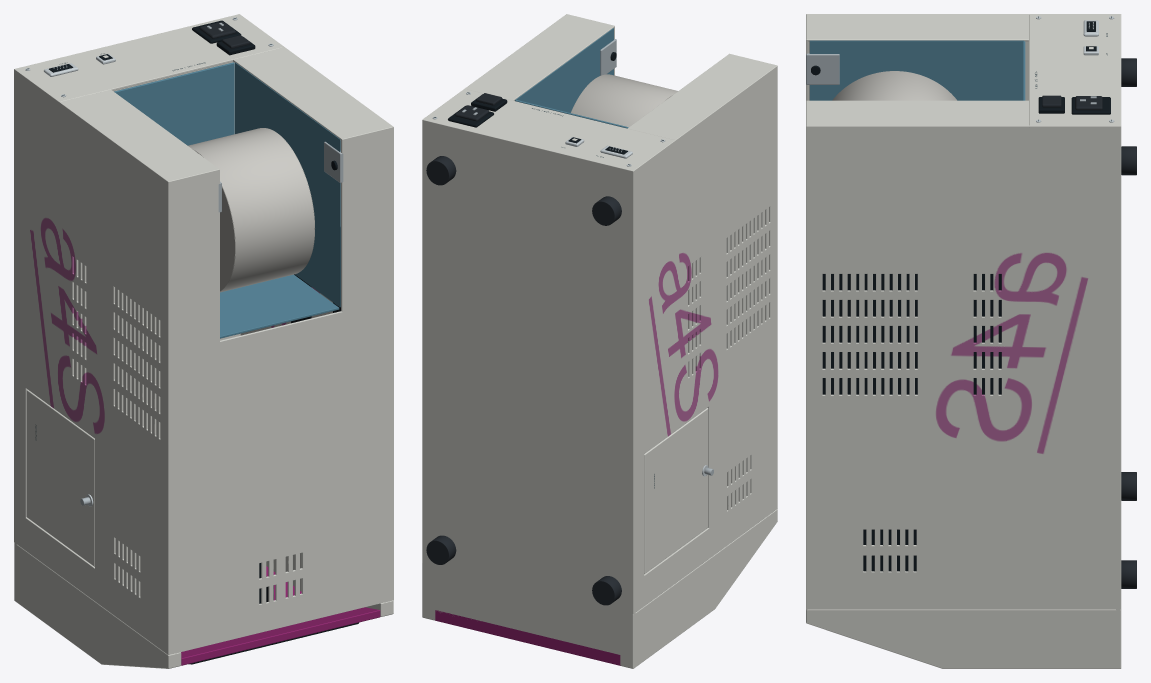
The model's file is azenta_a4s.glb.
3 renders of one model, left to right at view 1: azimuth 30°, elevation 25°; view 2: azimuth 150°, elevation 25°; view 3: azimuth 270°, elevation 25°, orthographic. The views are drawn at different scales.
Parts seen in each view (by area): view 1: Base pan | 222 x 500 mm, Left enclosure side | 263 mm high, Blue roll-bay floor, 78 mm sealing foil roll, Front side shoulder, Plum slanted control console, Carrier tunnel ceiling, Layered foil roll end face, Fixed carrier rail, Elastomer bench foot; view 2: Base pan | 222 x 500 mm, Left enclosure side | 263 mm high, Front side shoulder, 78 mm sealing foil roll, Elastomer bench foot, Blue roll-bay floor, Plum aperture header, Carrier tunnel ceiling, Fixed carrier rail; view 3: Left enclosure side | 263 mm high, Base pan | 222 x 500 mm, Front side shoulder, Blue roll-bay floor, Carrier tunnel ceiling, 78 mm sealing foil roll, Elastomer bench foot, Fixed carrier rail.
Part boxes in pixels (x1,y1,x2,y2): Base pan | 222 x 500 mm: [14, 14, 392, 654]; Left enclosure side | 263 mm high: [14, 14, 393, 654]; Blue roll-bay floor: [114, 62, 340, 338]; 78 mm sealing foil roll: [188, 128, 314, 292]; Front side shoulder: [14, 544, 393, 668]; Plum slanted control console: [181, 607, 380, 665]; Carrier tunnel ceiling: [49, 20, 358, 664]; Layered foil roll end face: [194, 129, 314, 291]; Fixed carrier rail: [53, 23, 343, 505]; Elastomer bench foot: [199, 21, 249, 48]; Base pan | 222 x 500 mm: [422, 14, 777, 667]; Left enclosure side | 263 mm high: [422, 14, 777, 614]; Front side shoulder: [422, 509, 777, 668]; 78 mm sealing foil roll: [571, 74, 677, 127]; Elastomer bench foot: [426, 93, 621, 605]; Blue roll-bay floor: [515, 28, 628, 128]; Plum aperture header: [435, 610, 620, 665]; Carrier tunnel ceiling: [448, 52, 627, 154]; Fixed carrier rail: [462, 39, 713, 475]; Left enclosure side | 263 mm high: [806, 14, 1121, 609]; Base pan | 222 x 500 mm: [806, 14, 1121, 668]; Front side shoulder: [806, 609, 1121, 668]; Blue roll-bay floor: [809, 40, 1025, 100]; Carrier tunnel ceiling: [811, 21, 1110, 571]; 78 mm sealing foil roll: [832, 71, 956, 100]; Elastomer bench foot: [1042, 58, 1136, 588]; Fixed carrier rail: [806, 22, 1096, 104].
Bounding box in the file's own units: 0.23 × 0.507 × 0.276.
15 materials, 3 textured.
